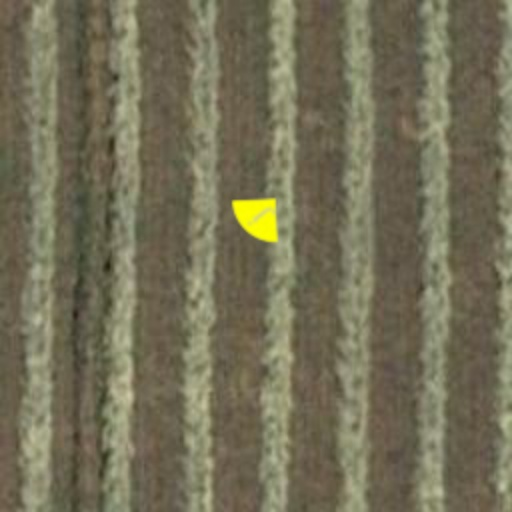quarter_circle: (216, 176, 300, 260)
